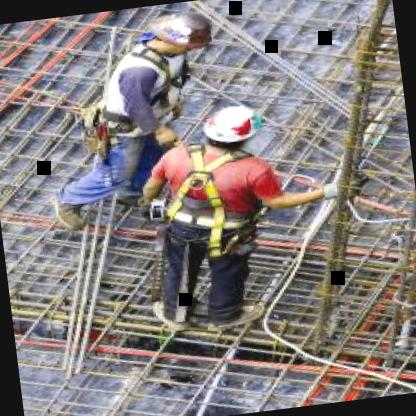helmet: (138, 5, 222, 60), (194, 102, 264, 153)
